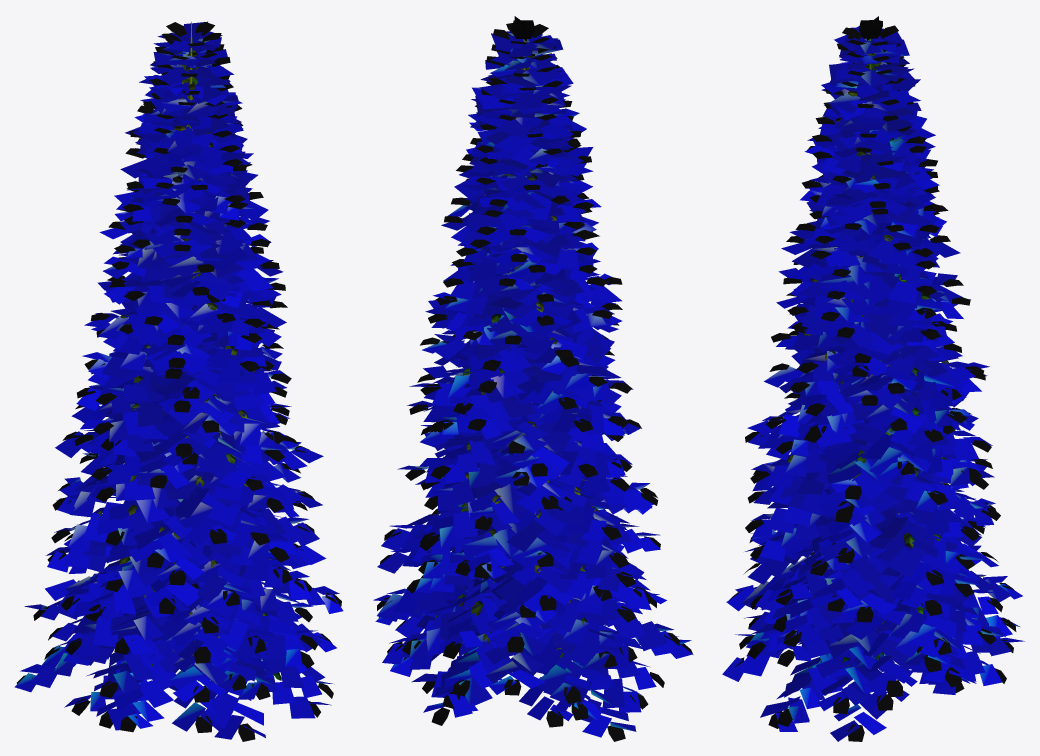
File: tree_spruce_4.glb
3 views of the same model, side by side, from view 1: azimuth 30°, elevation 25°; view 2: azimuth 150°, elevation 25°; view 3: azimuth 270°, elevation 25° (orthographic).
Parts seen in each view (by area): view 1: lod1_spruce_4; view 2: lod1_spruce_4; view 3: lod1_spruce_4.
Boxes of the visible parts, x1=… form: lod1_spruce_4: x1=14, y1=21, x2=343, y2=741; lod1_spruce_4: x1=373, y1=16, x2=693, y2=741; lod1_spruce_4: x1=722, y1=16, x2=1024, y2=741.
Bounding box in the file's own units: 8.83 × 21.14 × 8.67.
